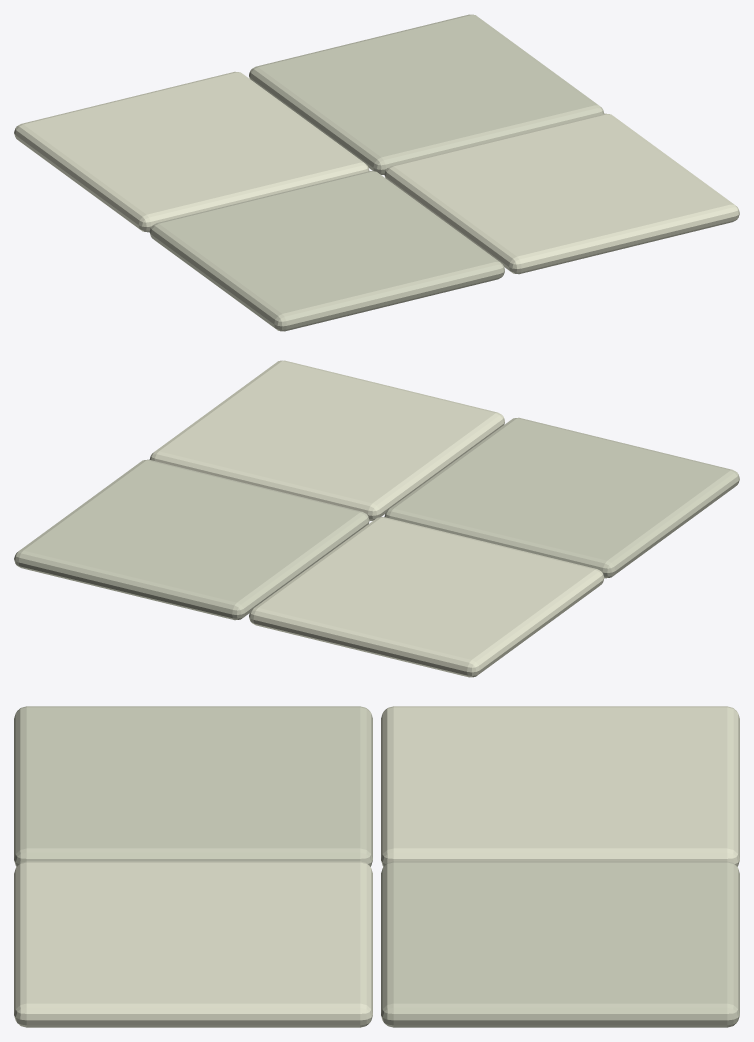
The model's file is hub_tile.glb.
The picture shows the model from 3 angles, top to bottom: view 1: azimuth 30°, elevation 25°; view 2: azimuth 150°, elevation 25°; view 3: azimuth 270°, elevation 25°; orthographic projection. The views are drawn at different scales.
Parts seen in each view (by area): view 1: Merged Pale garden limestone, Merged Worn ivory stepping stone; view 2: Merged Worn ivory stepping stone, Merged Pale garden limestone; view 3: Merged Pale garden limestone, Merged Worn ivory stepping stone.
Part boxes in pixels (x1,y1,x2,y2): Merged Pale garden limestone: (14,71,739,274); Merged Worn ivory stepping stone: (149,14,604,331); Merged Worn ivory stepping stone: (14,417,739,620); Merged Pale garden limestone: (149,360,604,677); Merged Pale garden limestone: (14,706,739,1027); Merged Worn ivory stepping stone: (14,706,739,1027).
Size of the model in its own units: 1.86 by 0.065 by 1.86.
